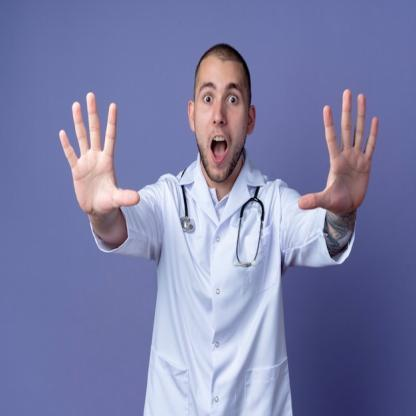stop: (294, 80, 382, 216), (57, 86, 144, 221)
